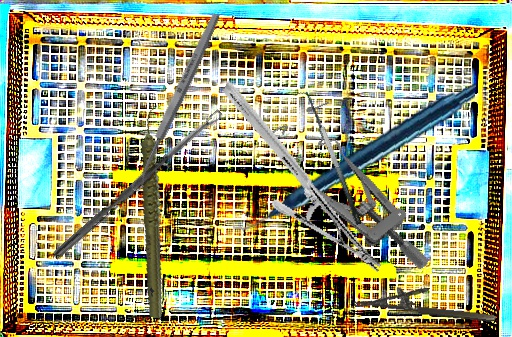Handpiece: (233, 63, 476, 250), (104, 103, 206, 320)
Needle Holder: (182, 80, 423, 275), (352, 279, 499, 324)
Spatula Surgical: (295, 87, 363, 230)
Speculum: (264, 88, 434, 304)
Surgical Spoon: (51, 109, 225, 261), (128, 11, 223, 194)
